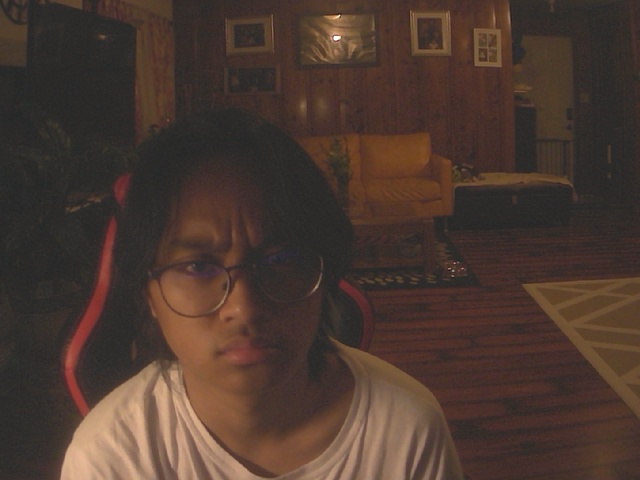anger: (134, 109, 354, 399)
